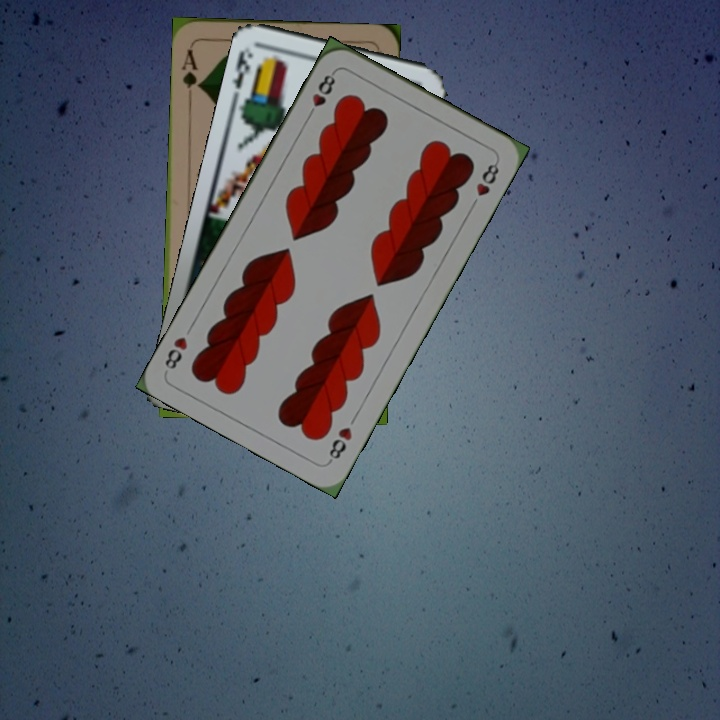EK: (229, 43, 255, 92)
GA: (178, 45, 204, 92)
H8: (303, 67, 338, 121), (324, 422, 355, 465)
